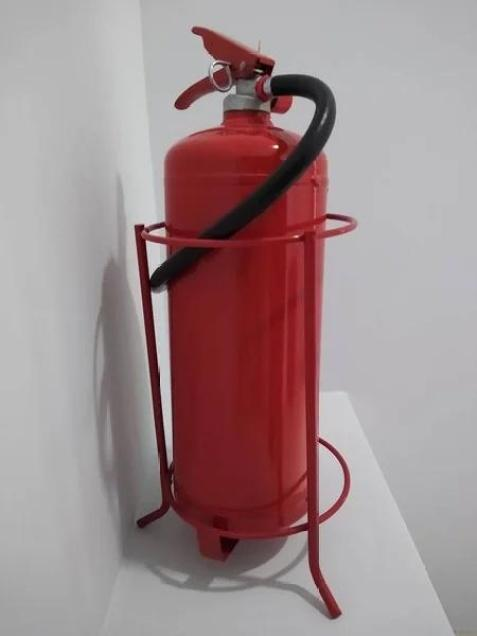APAR: (162, 24, 328, 530)
